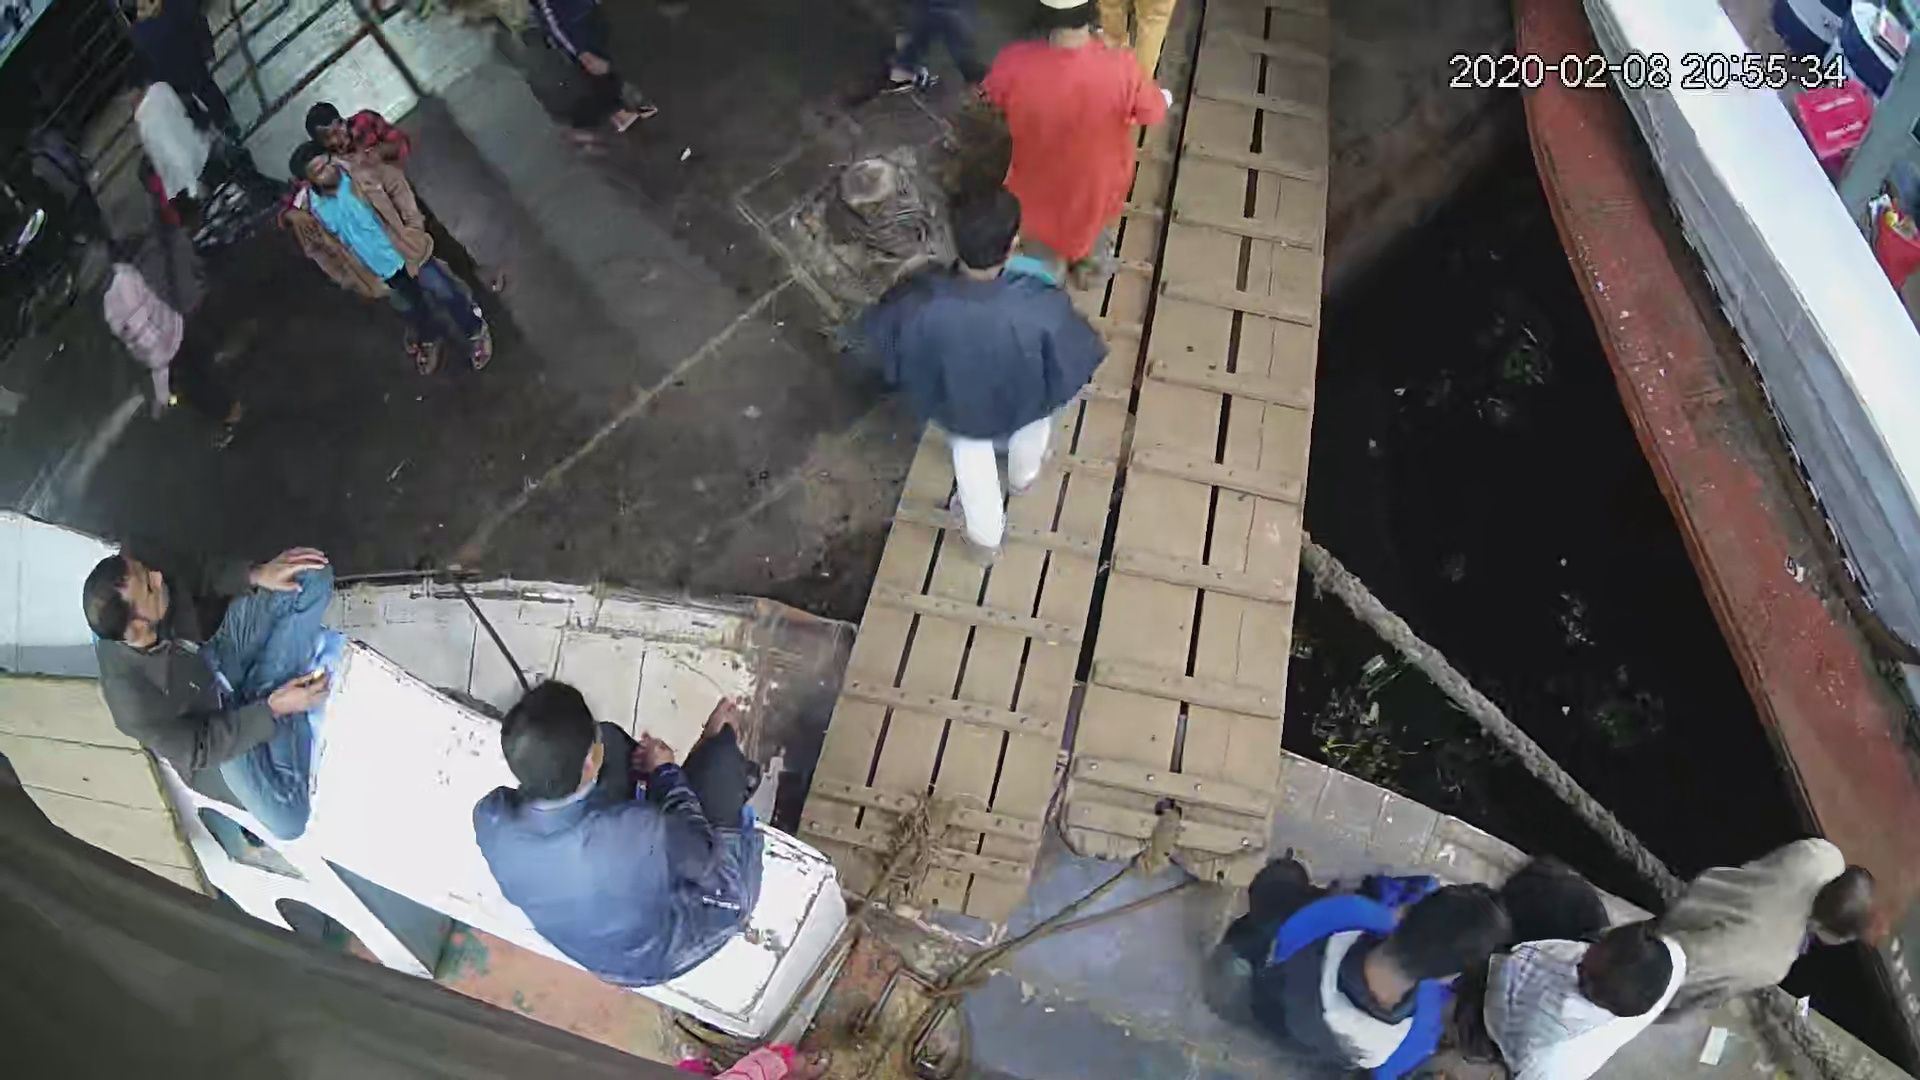person: (467, 675, 768, 992), (863, 182, 1103, 564), (78, 531, 338, 843), (978, 2, 1166, 289), (278, 139, 499, 381), (1238, 878, 1496, 1080), (1657, 833, 1883, 998), (70, 245, 251, 449), (1477, 917, 1691, 1080), (113, 69, 265, 261), (514, 1, 654, 157), (126, 1, 247, 140)
